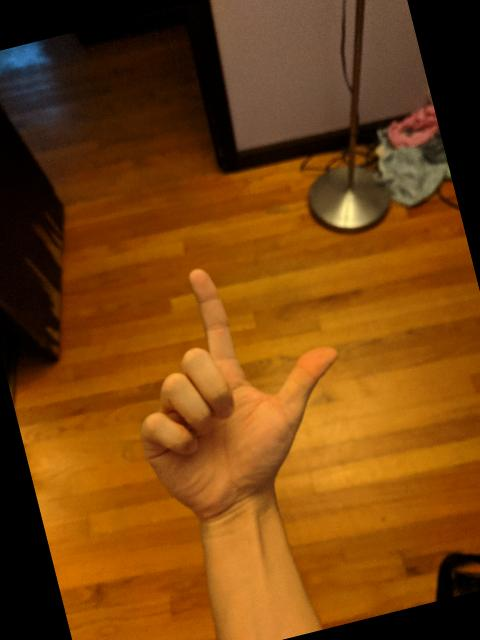L: (98, 231, 378, 536)
